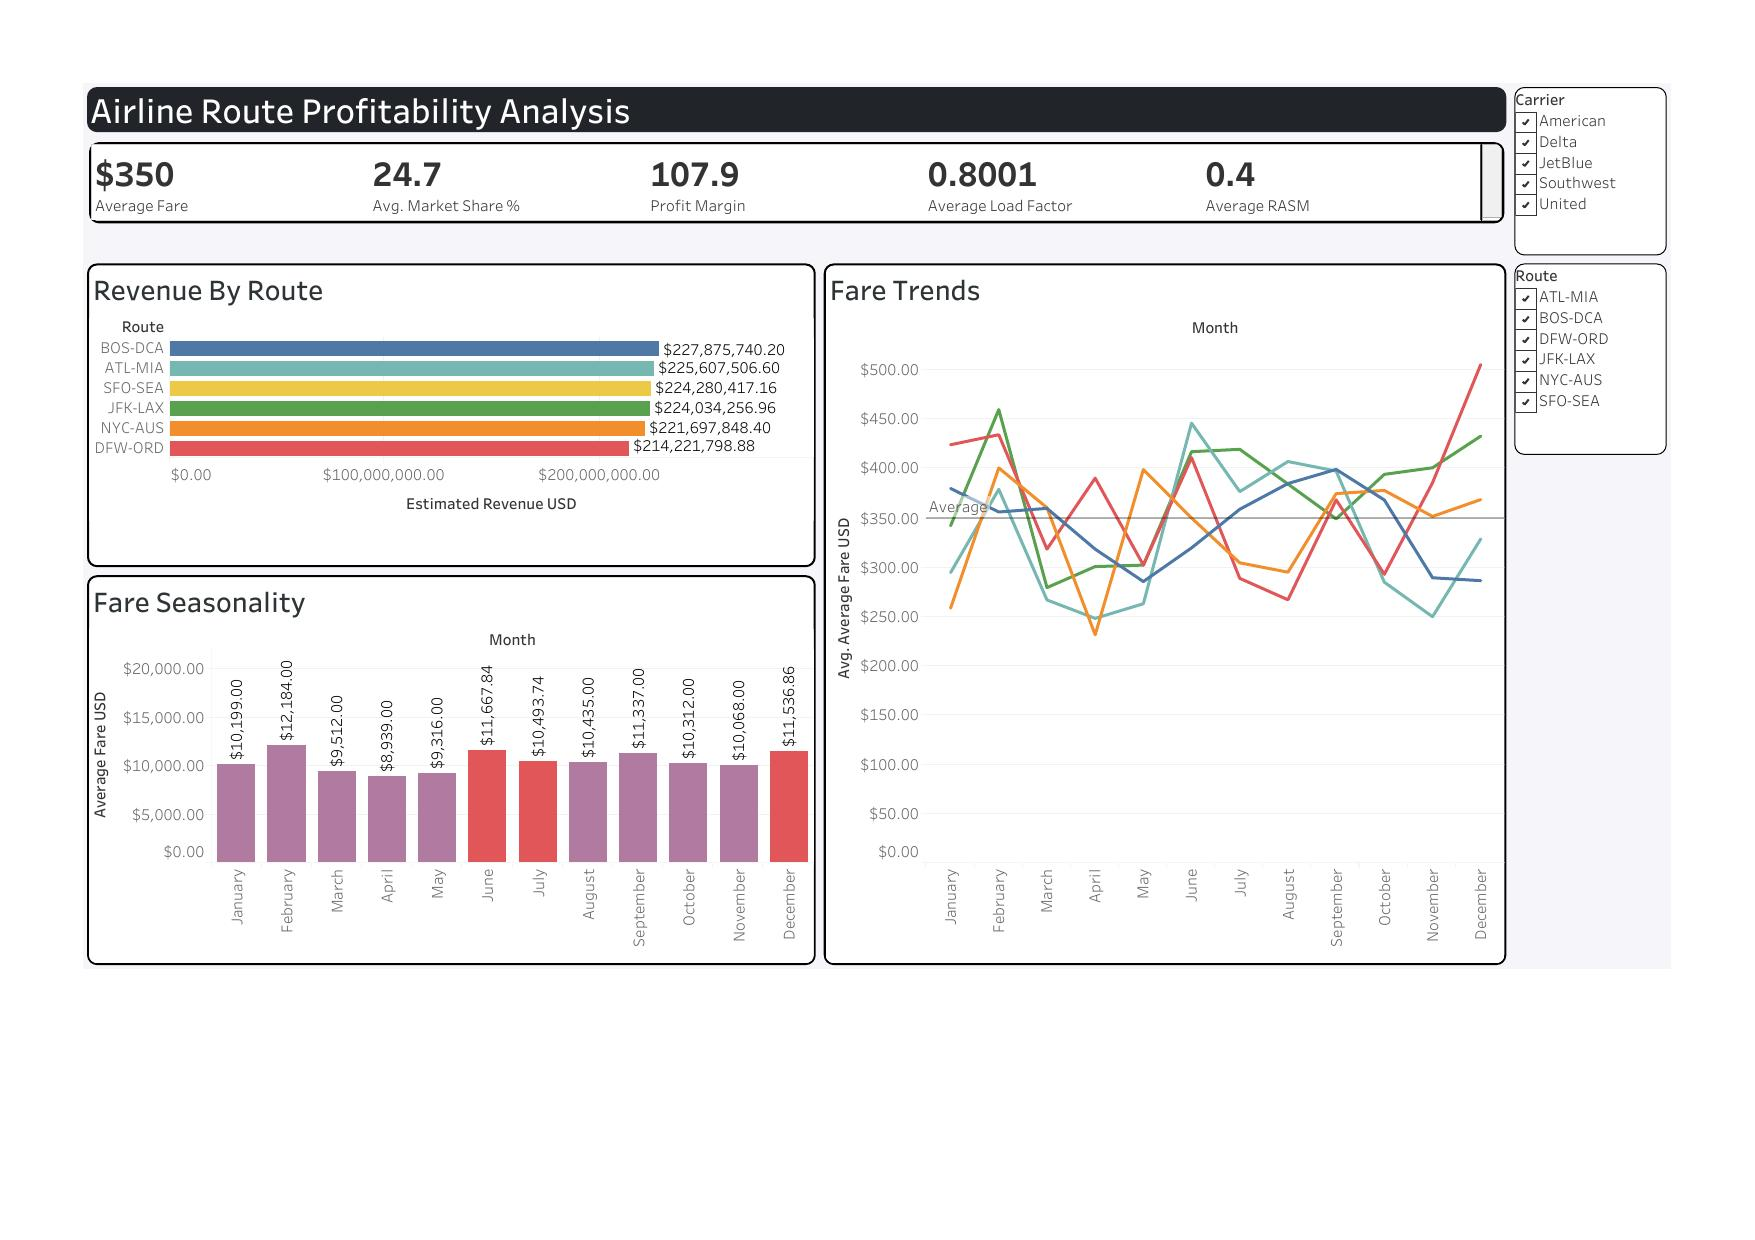

The page's visual inventory and layout, read from the dashboard file:
{"tool":"tableau","page":{"name":"Dashboard 1","canvas":[1600,900],"ordinal":0},"visuals":[{"type":"title","box":[8,8,1424,53]},{"type":"filter","title":"Fare Trends","param":"[federated.1uu809b0lch9x5181ekie16xt04k].[none:Carrier:nk]","box":[1432,8,160,176]},{"type":"worksheet","title":"KPI","mark":"Text","box":[8,61,1424,93]},{"type":"filter","title":"Revenue by Route","param":"[federated.1uu809b0lch9x5181ekie16xt04k].[none:Route:nk]","box":[1432,184,160,199]},{"type":"worksheet","title":"Revenue by Route","mark":"Automatic","rows":["Route"],"cols":["Estimated_Revenue_USD"],"box":[8,184.1,735.2,310.9]},{"type":"worksheet","title":"Fare Trends","mark":"Line","rows":["Average_Fare_USD"],"cols":["Month"],"box":[743.2,184.1,688.8,707.9]},{"type":"worksheet","title":"Fare Seasonality","mark":"Bar","rows":["Average_Fare_USD"],"cols":["Month"],"box":[8,494.9,735.2,397.1]}]}

Visuals, with their boxes on the page's 1600x900 design canvas (x1, y1, x2, y2). These are canvas units, not pixel positions in the 1755x1240 screenshot, which may show the page scaled, cropped or inside an application window:
title: 8/8/1432/61
"Fare Trends" filter: 1432/8/1592/184
"KPI" worksheet (Text marks): 8/61/1432/154
"Revenue by Route" filter: 1432/184/1592/383
"Revenue by Route" worksheet: 8/184/743/495
"Fare Trends" worksheet (Line marks): 743/184/1432/892
"Fare Seasonality" worksheet (Bar marks): 8/495/743/892
